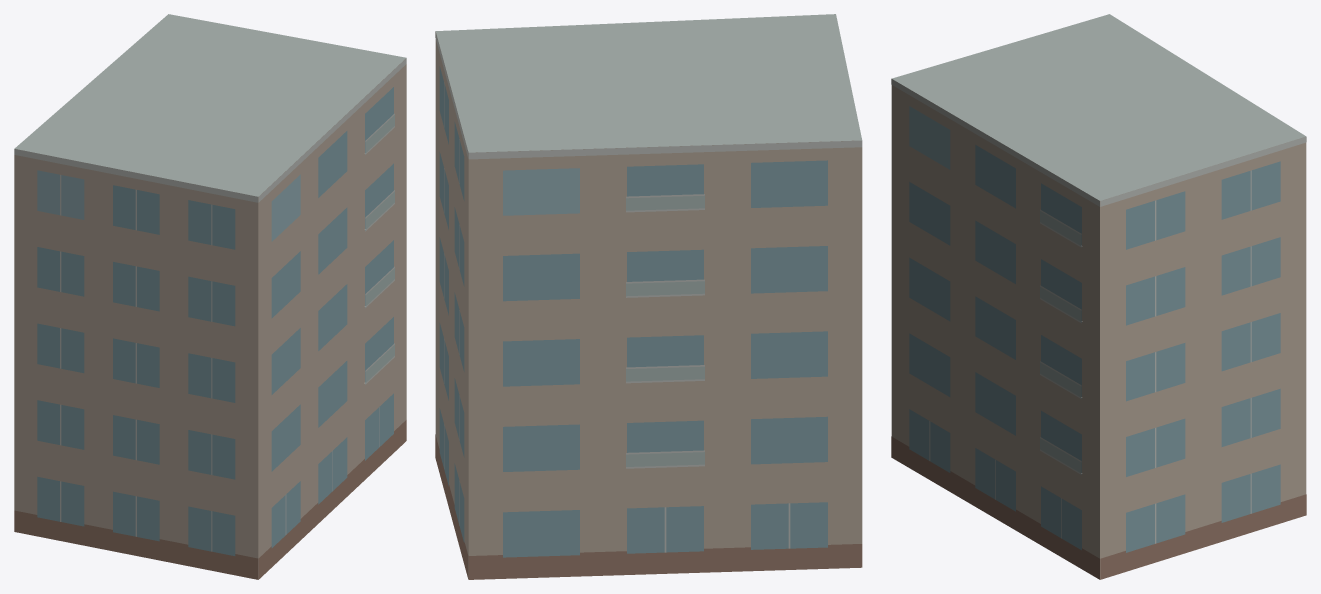
File: survey-upis-32720732.glb
3 renders of one model, left to right at view 1: azimuth 30°, elevation 25°; view 2: azimuth 150°, elevation 25°; view 3: azimuth 270°, elevation 25°, orthographic. The views are drawn at different scales.
Visible parts, largest first — view 1: survey-upis-32720732.tmp; view 2: survey-upis-32720732.tmp; view 3: survey-upis-32720732.tmp.
Boxes of the visible parts, left/top/right/bottom form: survey-upis-32720732.tmp: left=14, top=14, right=406, bottom=579; survey-upis-32720732.tmp: left=435, top=14, right=862, bottom=579; survey-upis-32720732.tmp: left=891, top=14, right=1306, bottom=579.
Bounding box in the file's own units: 16.25 × 15.35 × 15.24.
